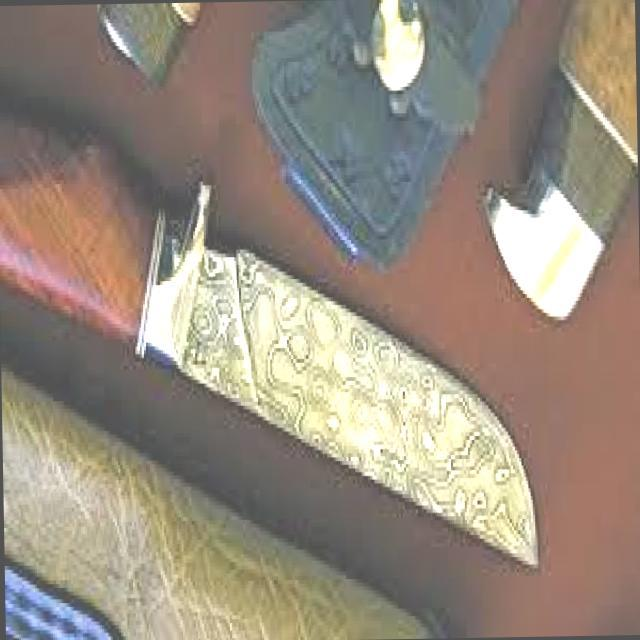Knife: (0, 114, 548, 602)
